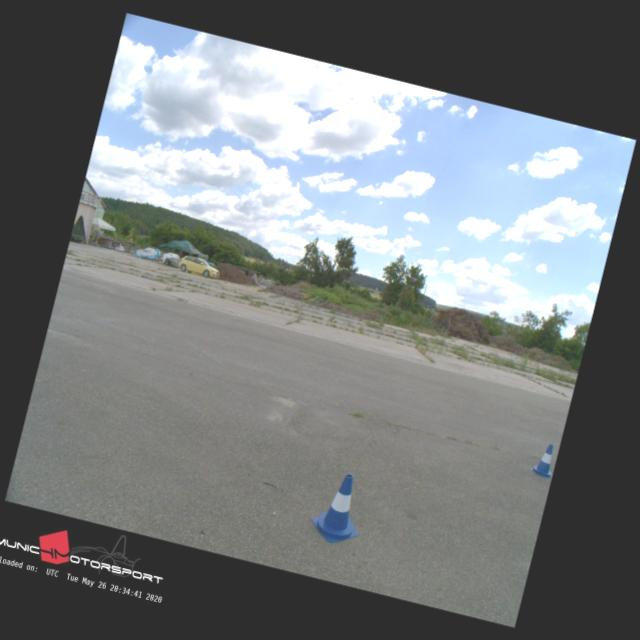blue_cone: (306, 468, 372, 548), (528, 440, 559, 478)
